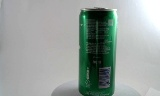sprite: (72, 7, 111, 95)
